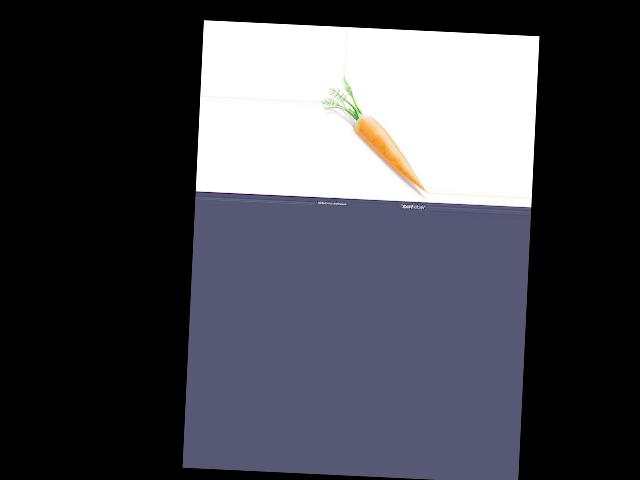carrot: (349, 111, 430, 194)
